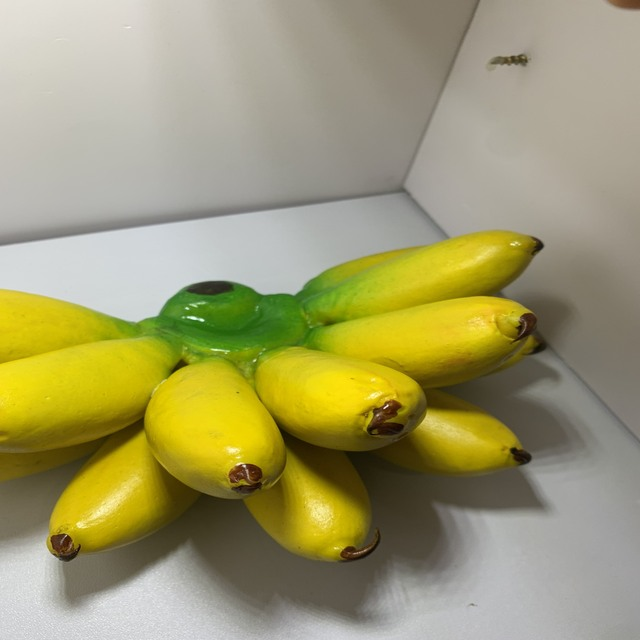Chuoi: (0, 224, 551, 577)
